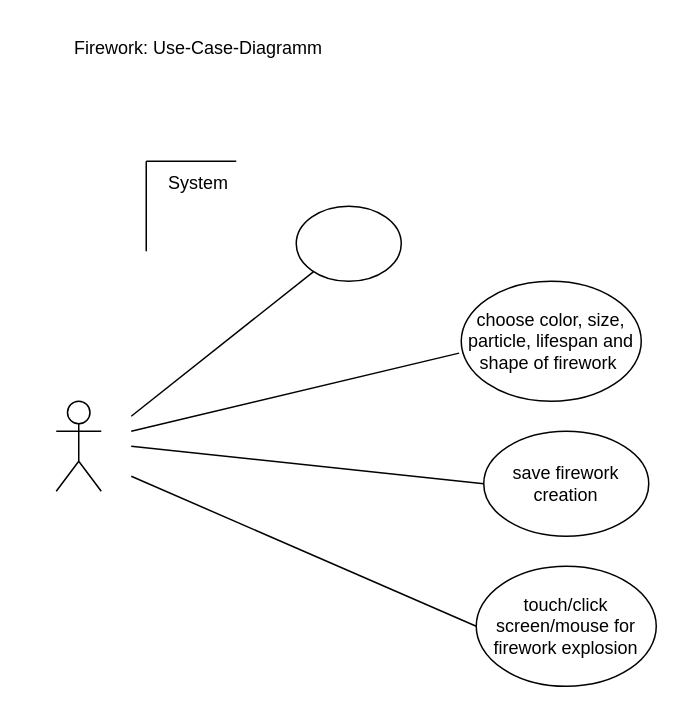
Image size: 683x713. Some labels were removed from this diagram. The shapes that lost their labels are listed below. From the top down, each one's centre as x and y in pixels, then its label:
At point (348, 243): "start".
At point (78, 445): "User".
